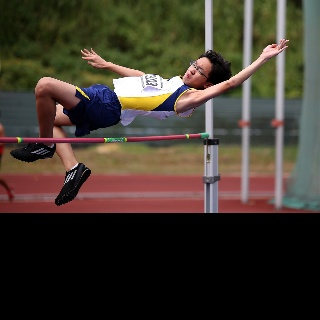without_mask: (182, 57, 208, 86)
